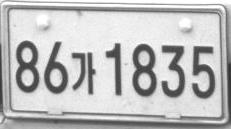1: (103, 42, 128, 95)
3: (160, 44, 186, 98)
5: (191, 45, 215, 99)
6: (43, 41, 68, 94)
8: (132, 42, 157, 98), (15, 39, 39, 93)
가: (71, 52, 96, 94)
